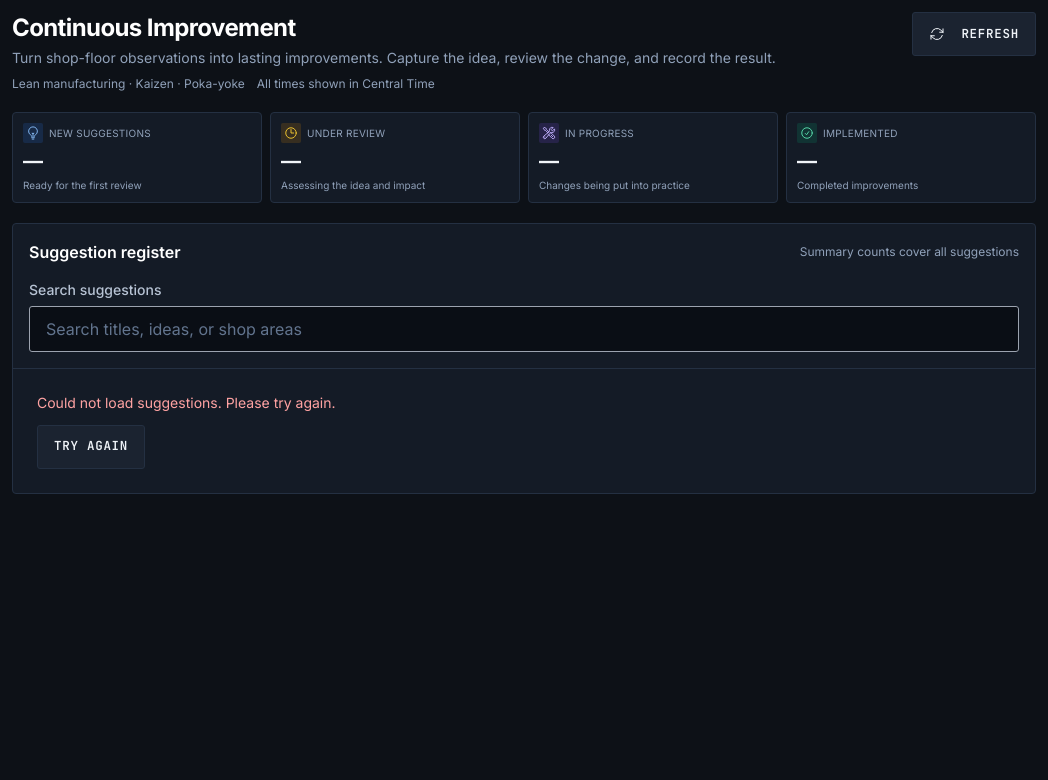
Test: retries a failed initial load without presenting an empty register as success
Expected: the message shows "Could not load suggestions", left=37, top=394, right=336, bottom=410
Click the button "Try again": point(91, 446) left=37, top=424, right=145, bottom=468
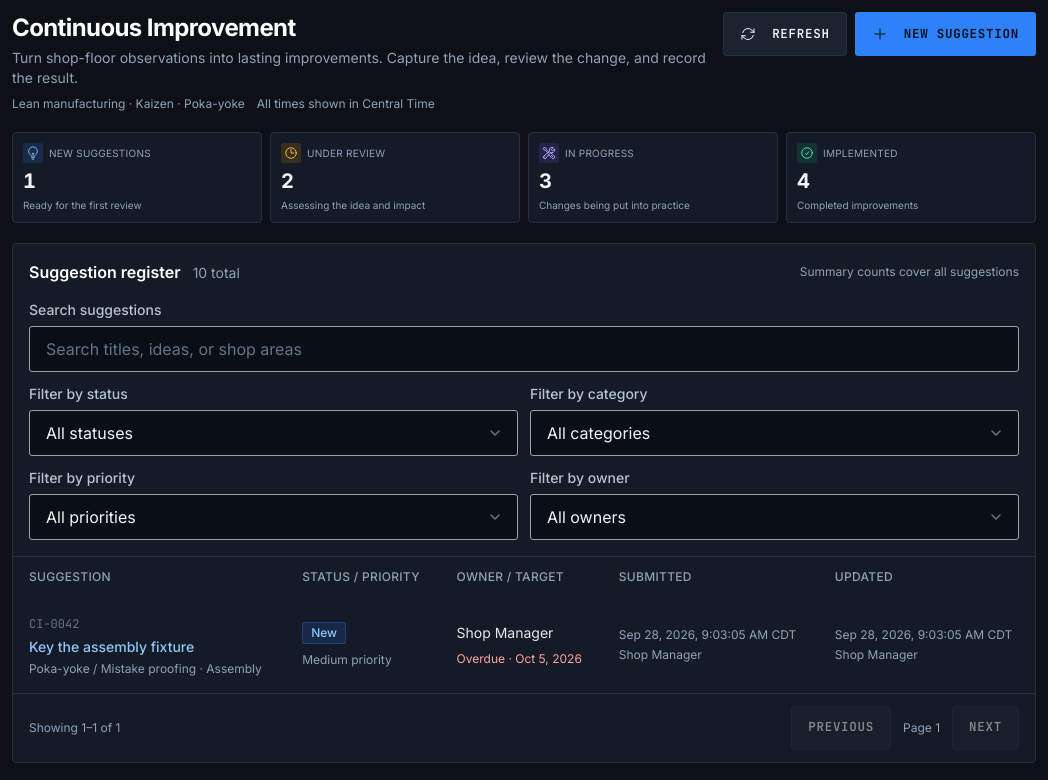
Expected: the number of buttons "Key the assembly fixture" is 2
